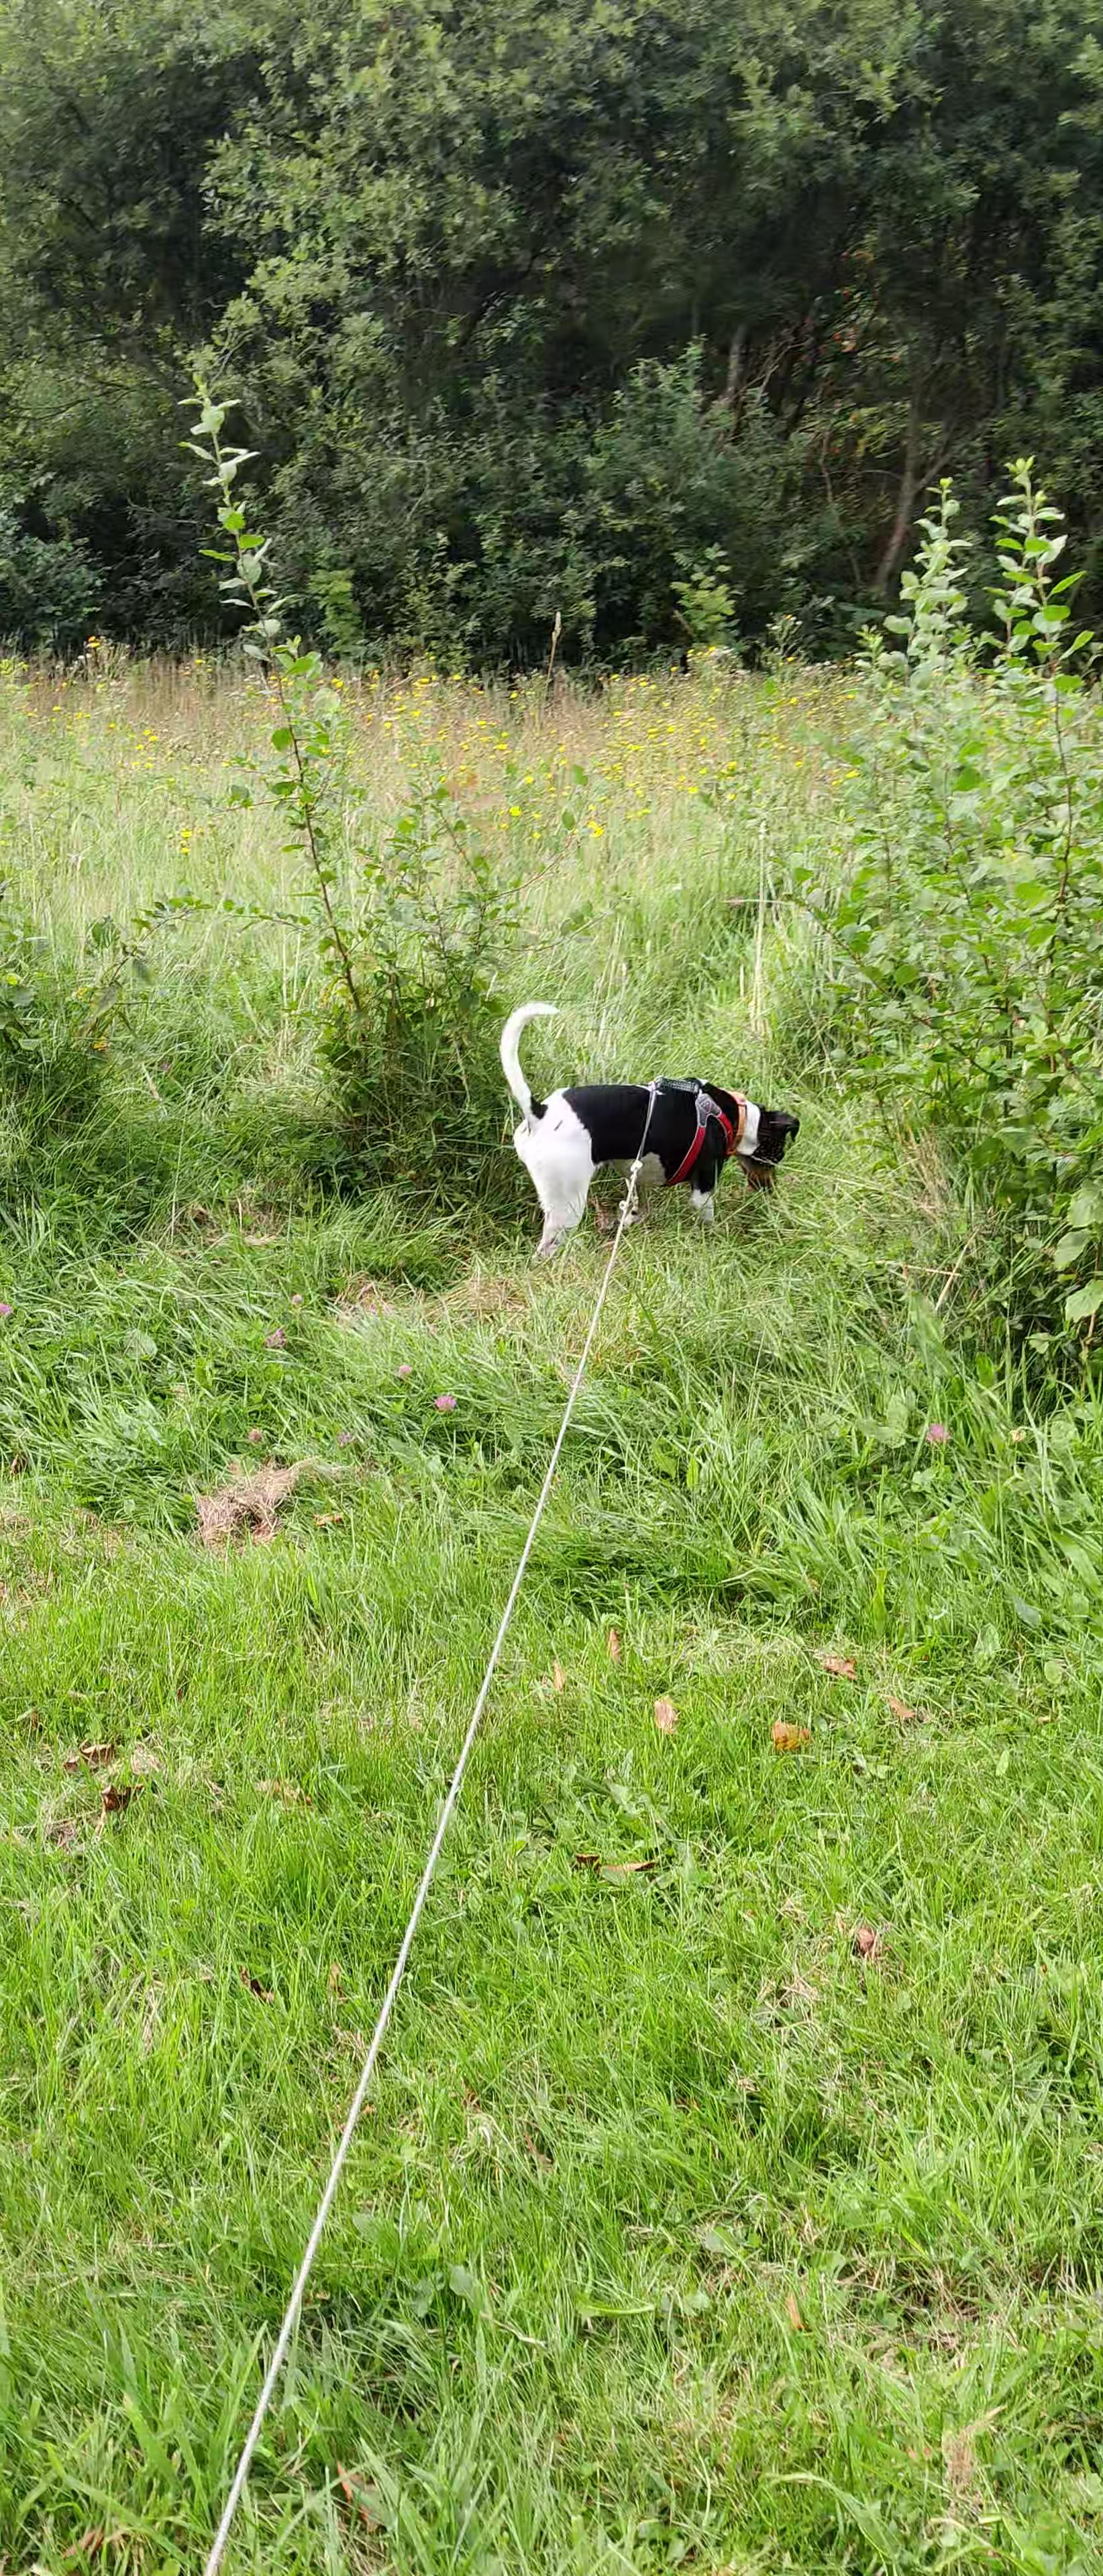Dog: (490, 996, 804, 1270)
